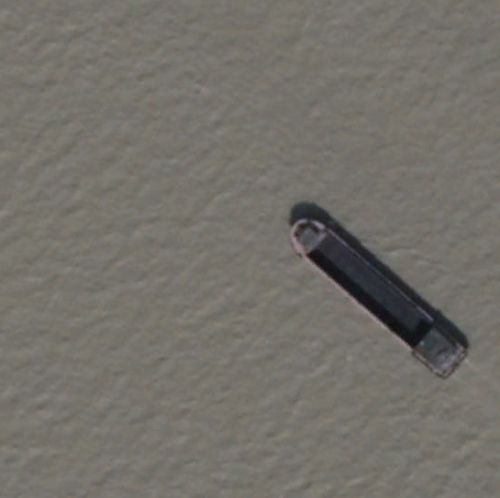boat: (284, 213, 469, 382)
